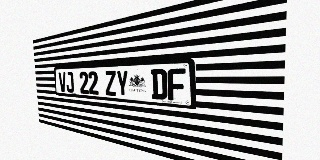2: (88, 71, 98, 95), (79, 71, 89, 94)
D: (151, 69, 167, 100)
F: (167, 68, 186, 101)
J: (65, 72, 74, 93)
V: (58, 72, 66, 92)
Y: (116, 70, 129, 97)
Z: (105, 70, 116, 96)
